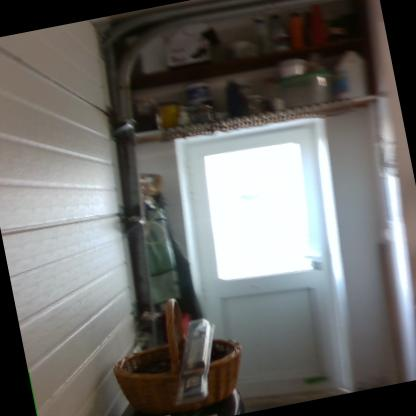closed: (154, 104, 379, 415)
